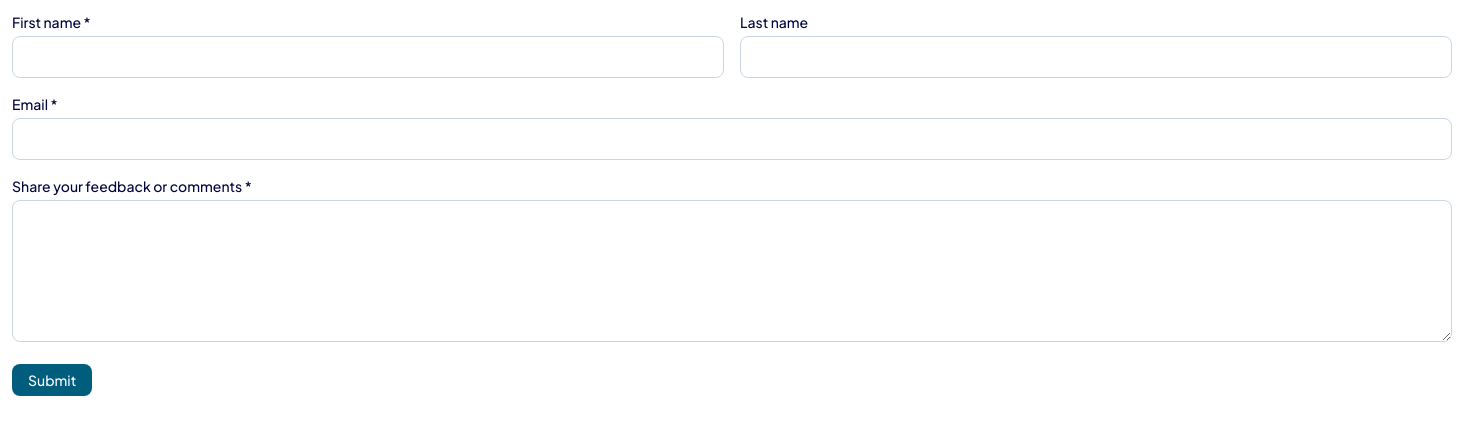
Test case: ContactForm › rejects an invalid email
In the field labelled "First name *": point(368, 57) [12,36,724,78], type "Aroha"
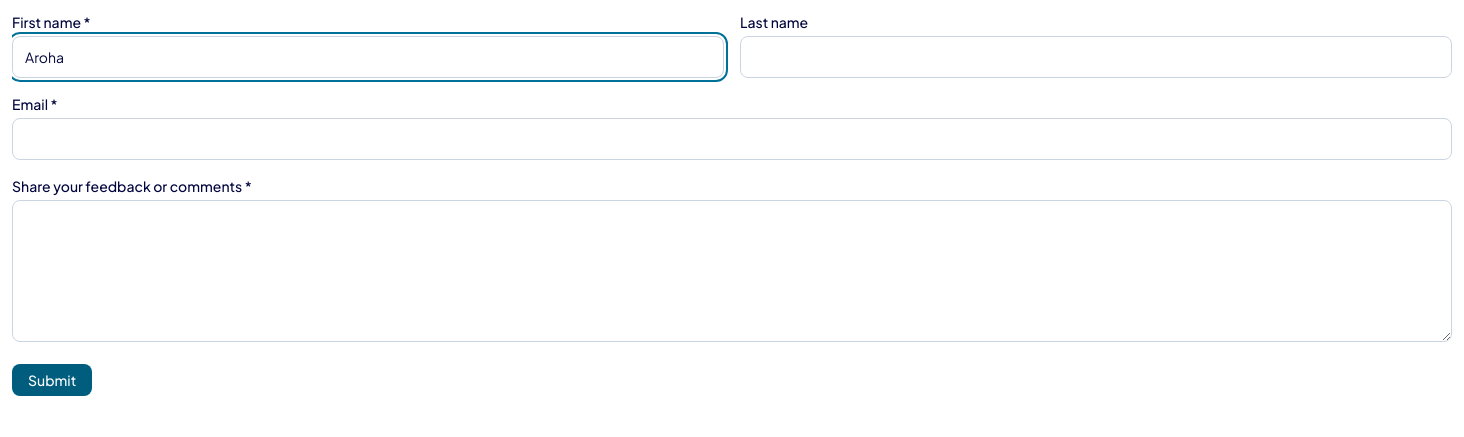
In the field labelled "Email *": point(732, 139) [12,118,1452,160], type "nope"
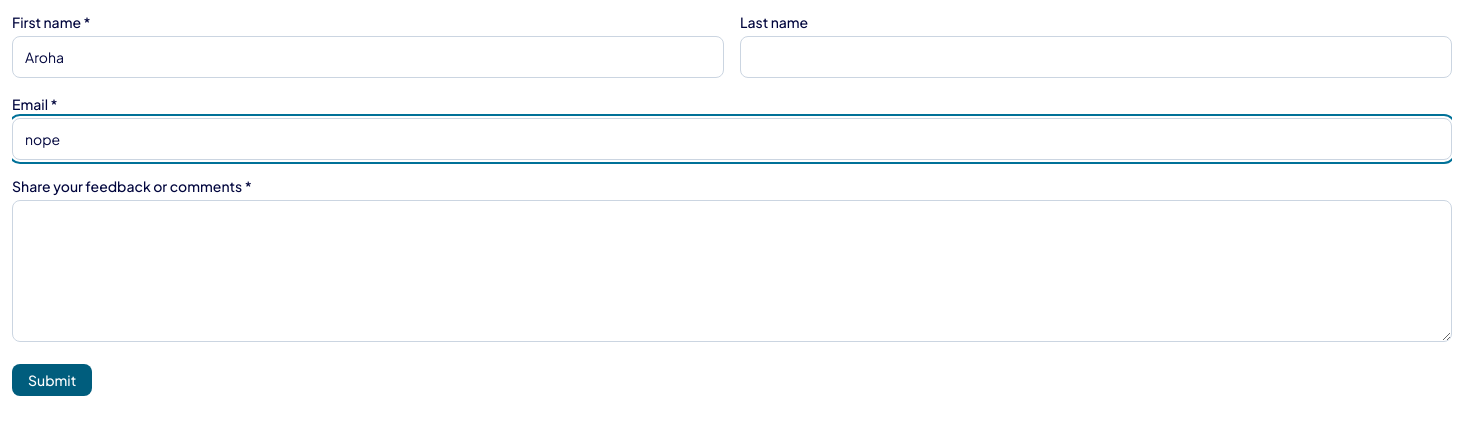
In the text box labelled "Share your feedback or comments *": point(732, 271) [12,200,1452,342], type "Hi"
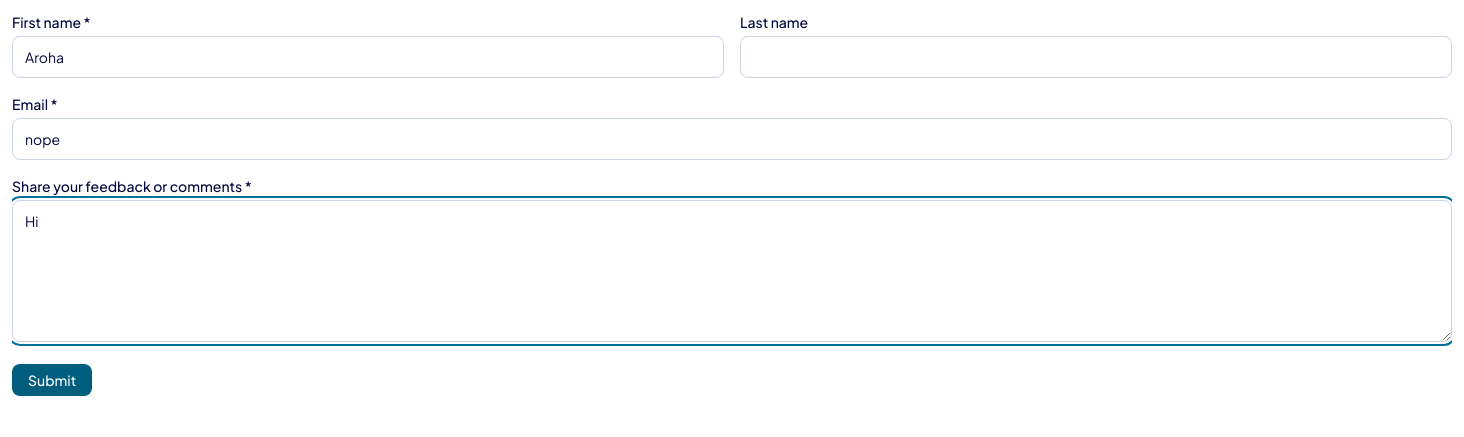
Click the button "Submit": point(52, 380) [12,364,92,396]
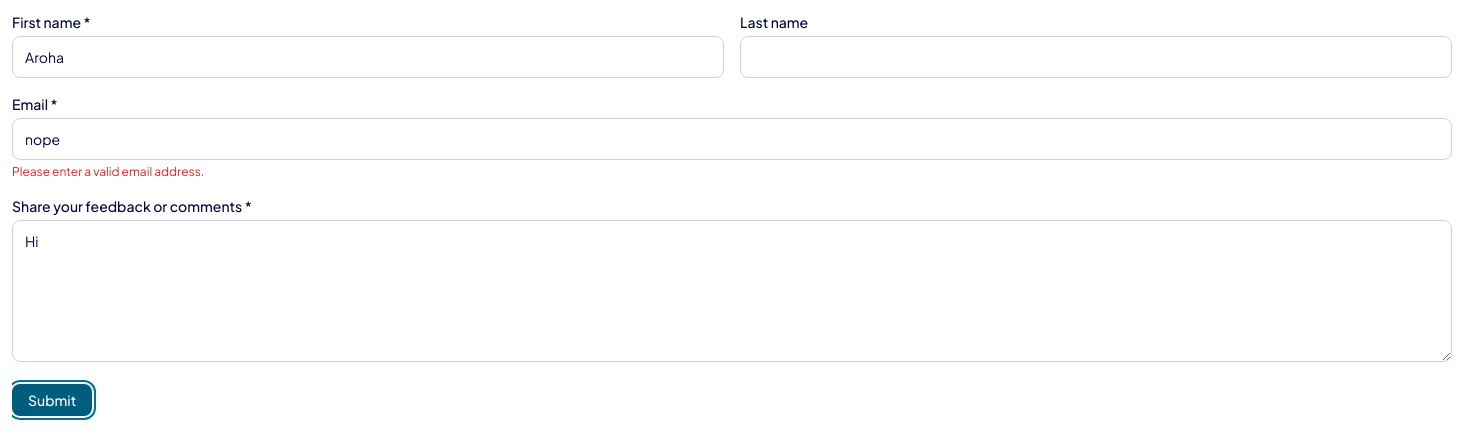
Expected: the text "Please enter a valid email address." is shown, [12,164,204,179]
